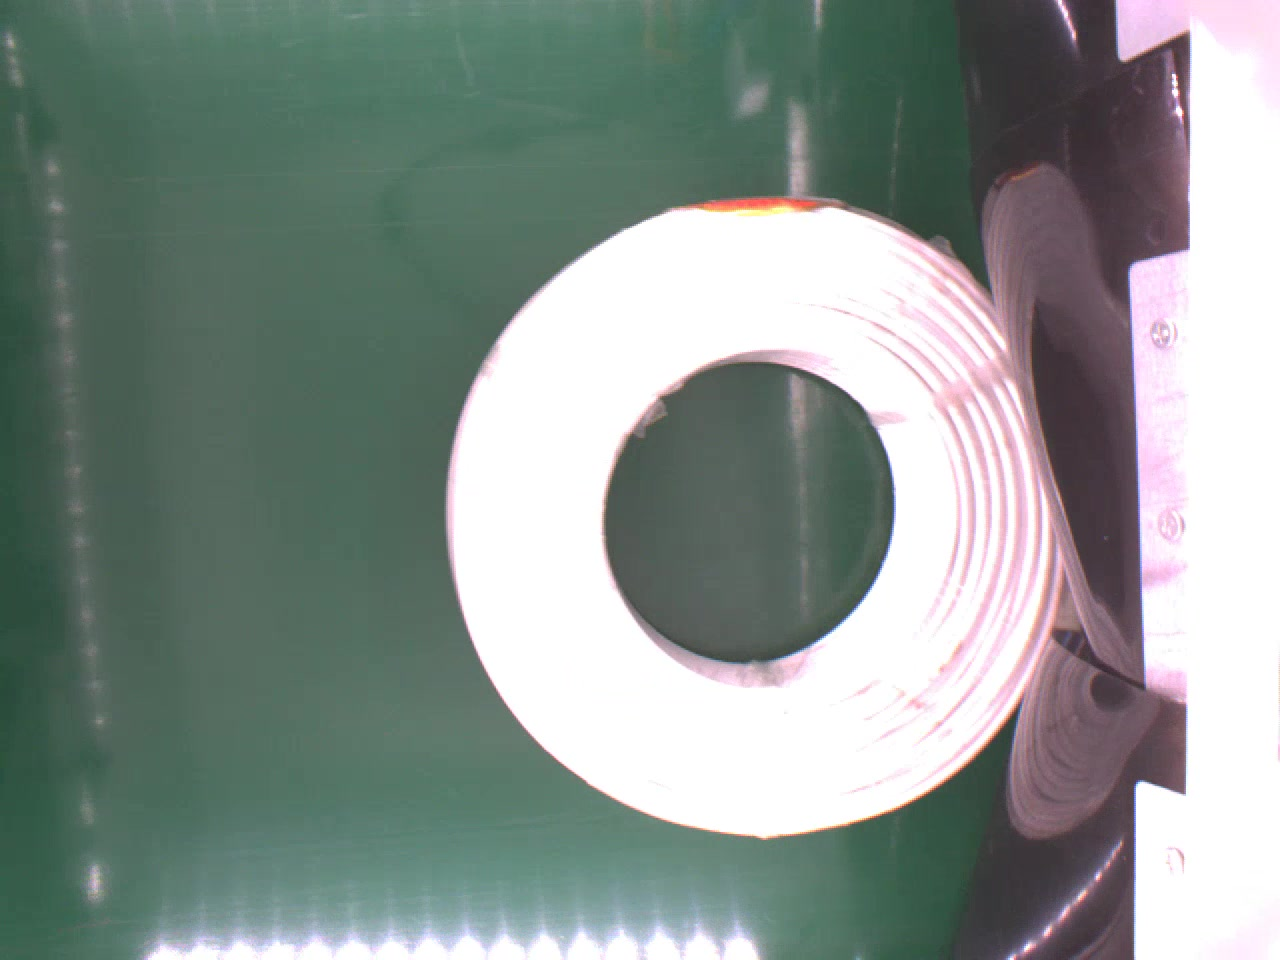white: (444, 192, 1070, 842)
